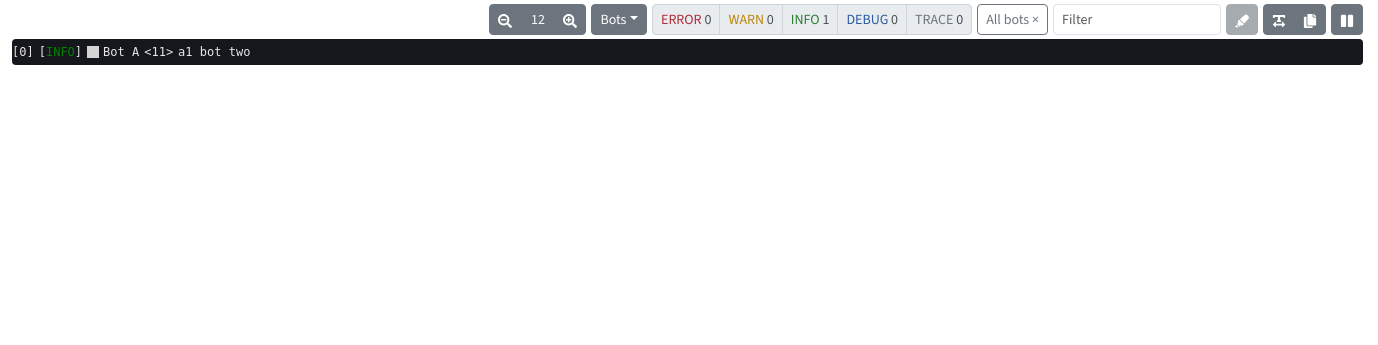
Test: Logs (per-bot filtering) › selectedBot narrows to one bot instance and reflects it in the filter
Expected: the text "a1 bot two" is shown, [178,45,250,59]
Note: ...and the Bots filter reflects it: only that bot's checkbox is checked.
Click the button "Bots": (619, 20) [591,4,647,35]
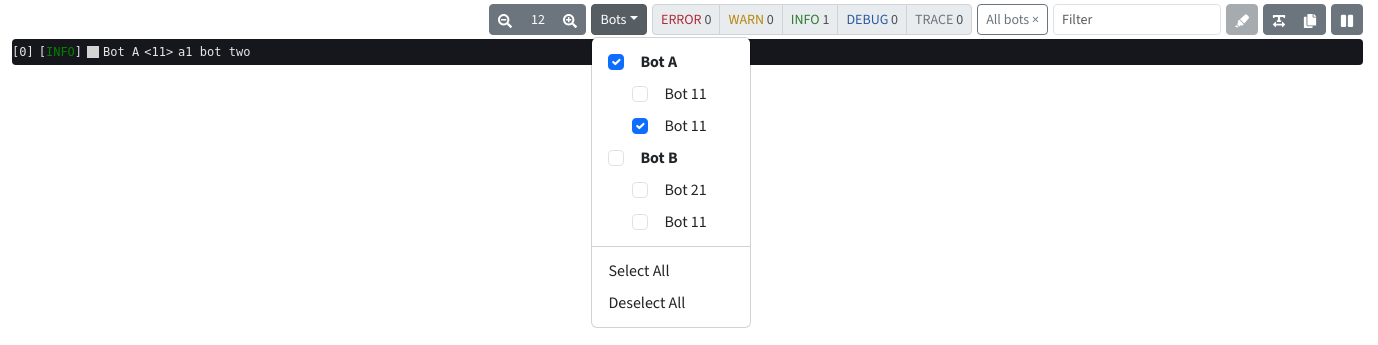
Expected: the checkbox with id "bot-a1:2" is checked, [632,118,648,134]
Expected: the checkbox with id "bot-a1:1" is not checked, [632,86,648,102]
